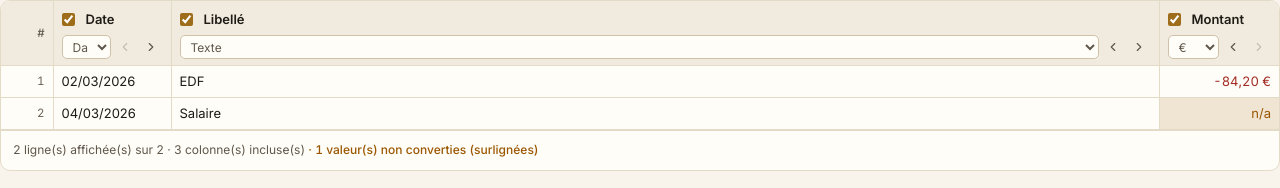
aperçu de la table › un nom vidé revient à l'ancien, sans enregistrement
Clear the field named "Nom de la colonne Date" at (122, 19), box x1=80 y1=7 x2=162 y2=31
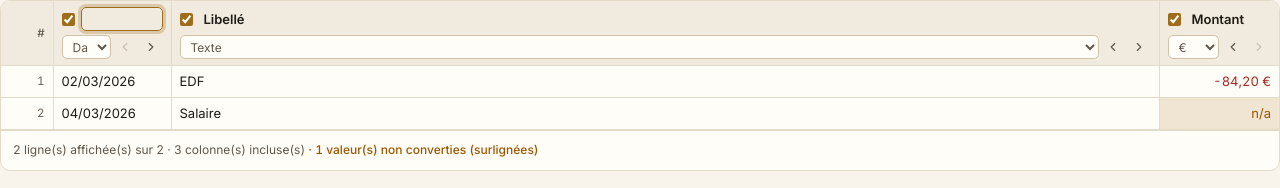
Press Tab
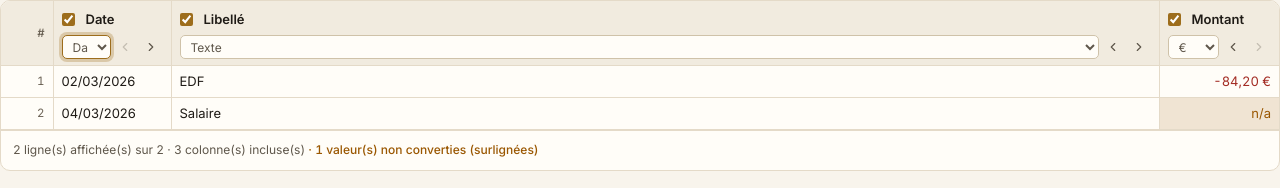
expect the field named "Nom de la colonne Date" holds "Date": met, box x1=80 y1=7 x2=162 y2=31
